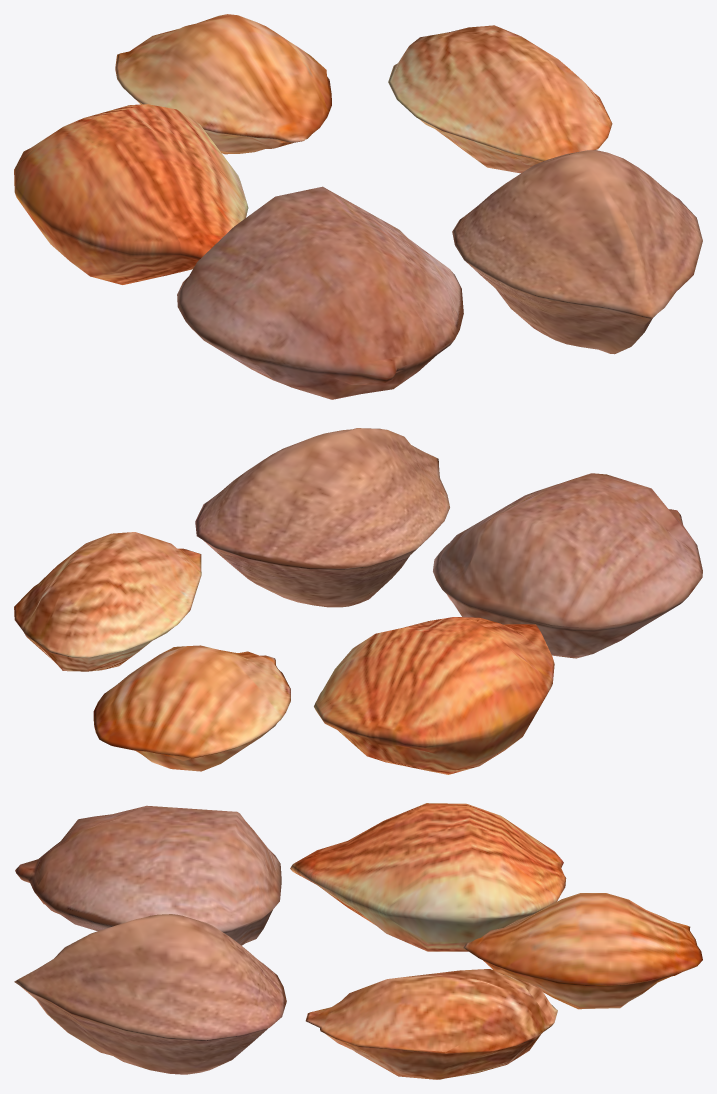
File: kuxingrn.FBX
The picture shows the model from 3 angles, top to bottom: view 1: azimuth 30°, elevation 25°; view 2: azimuth 150°, elevation 25°; view 3: azimuth 270°, elevation 25°; orthographic projection. The views are drawn at different scales.
Visible parts, largest first — view 1: Line004, Line005, Line001, Line003, Line002; view 2: Line004, Line005, Line001, Line003, Line002; view 3: Line005, Line001, Line004, Line003, Line002.
Boxes of the visible parts, box(x1,y1,x2,y2) form: Line004: box(177, 186, 463, 399); Line005: box(452, 150, 702, 354); Line001: box(14, 104, 248, 284); Line003: box(388, 25, 612, 173); Line002: box(115, 14, 331, 154); Line004: box(433, 473, 702, 658); Line005: box(195, 428, 449, 607); Line001: box(314, 617, 554, 774); Line003: box(14, 532, 201, 671); Line002: box(93, 645, 290, 771); Line005: box(14, 914, 286, 1074); Line001: box(290, 803, 566, 951); Line004: box(15, 805, 281, 945); Line003: box(305, 969, 557, 1079); Line002: box(463, 893, 702, 1009).
Bounding box in the file's own units: 38.87 × 12.2 × 50.64.
Materials: 1 (1 with a texture image).
